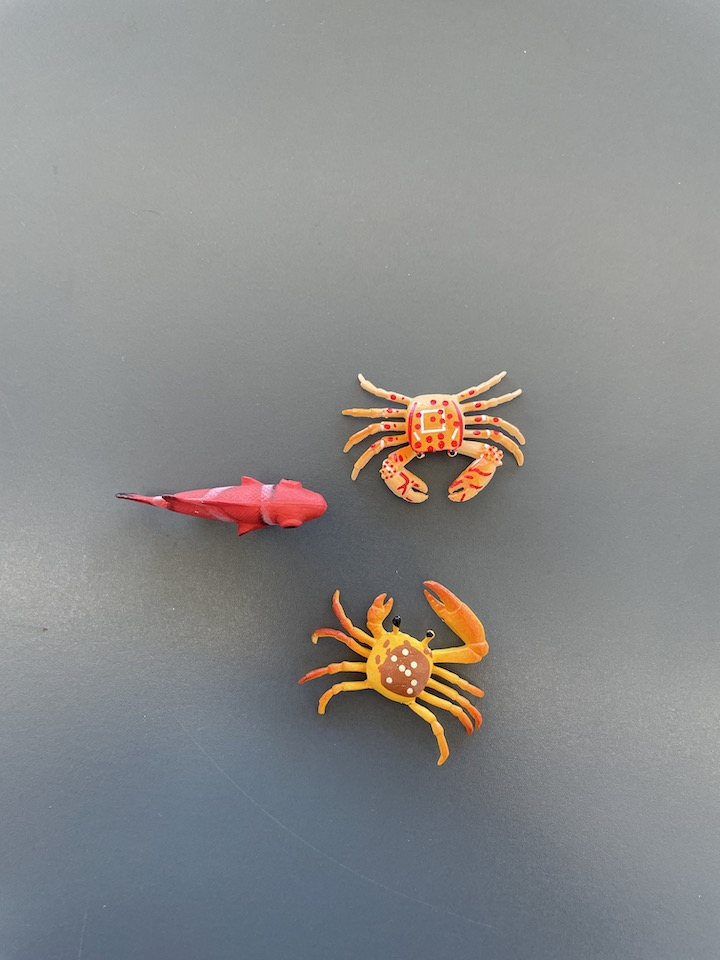crab: (295, 576, 496, 772), (337, 370, 530, 507)
fish: (110, 468, 332, 544)
